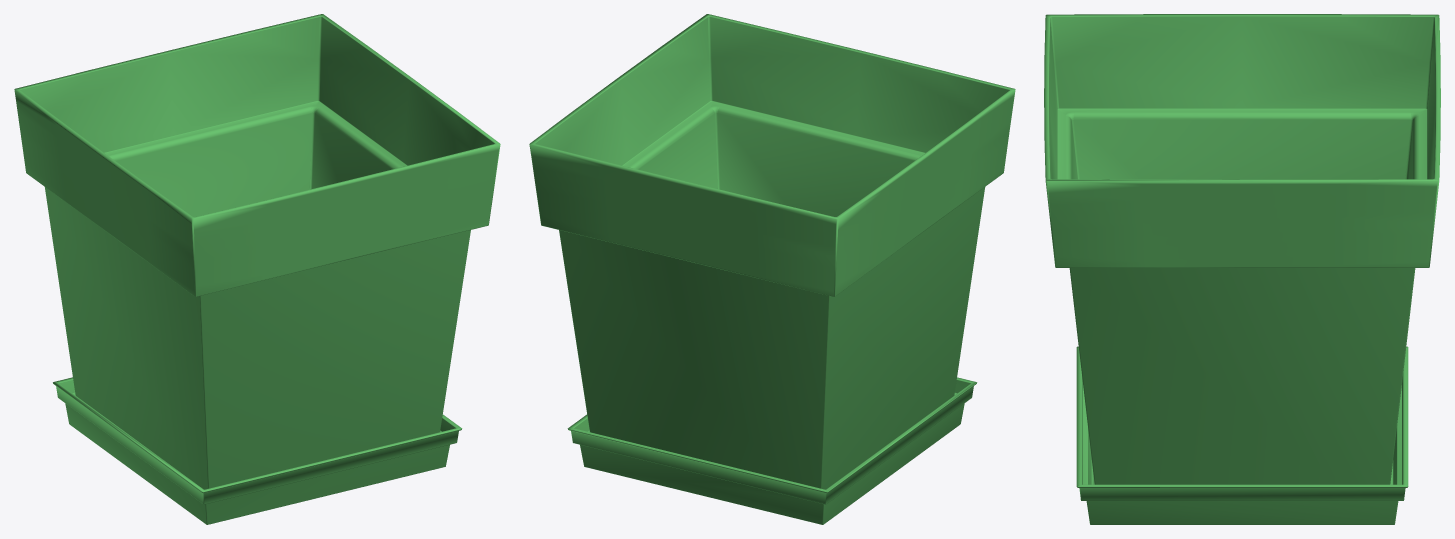
Rendered from pot1.glb.
The picture shows the model from 3 angles, left to right: view 1: azimuth 30°, elevation 25°; view 2: azimuth 150°, elevation 25°; view 3: azimuth 270°, elevation 25°; orthographic projection. The views are drawn at different scales.
Visible parts, largest first — view 1: 38L; view 2: 38L; view 3: 38L.
Part boxes in pixels (x1,y1,x2,y2): 38L: (14, 14, 500, 524); 38L: (529, 14, 1015, 524); 38L: (1044, 14, 1440, 524).
Size of the model in its own units: 20.71 by 20.9 by 20.71.
